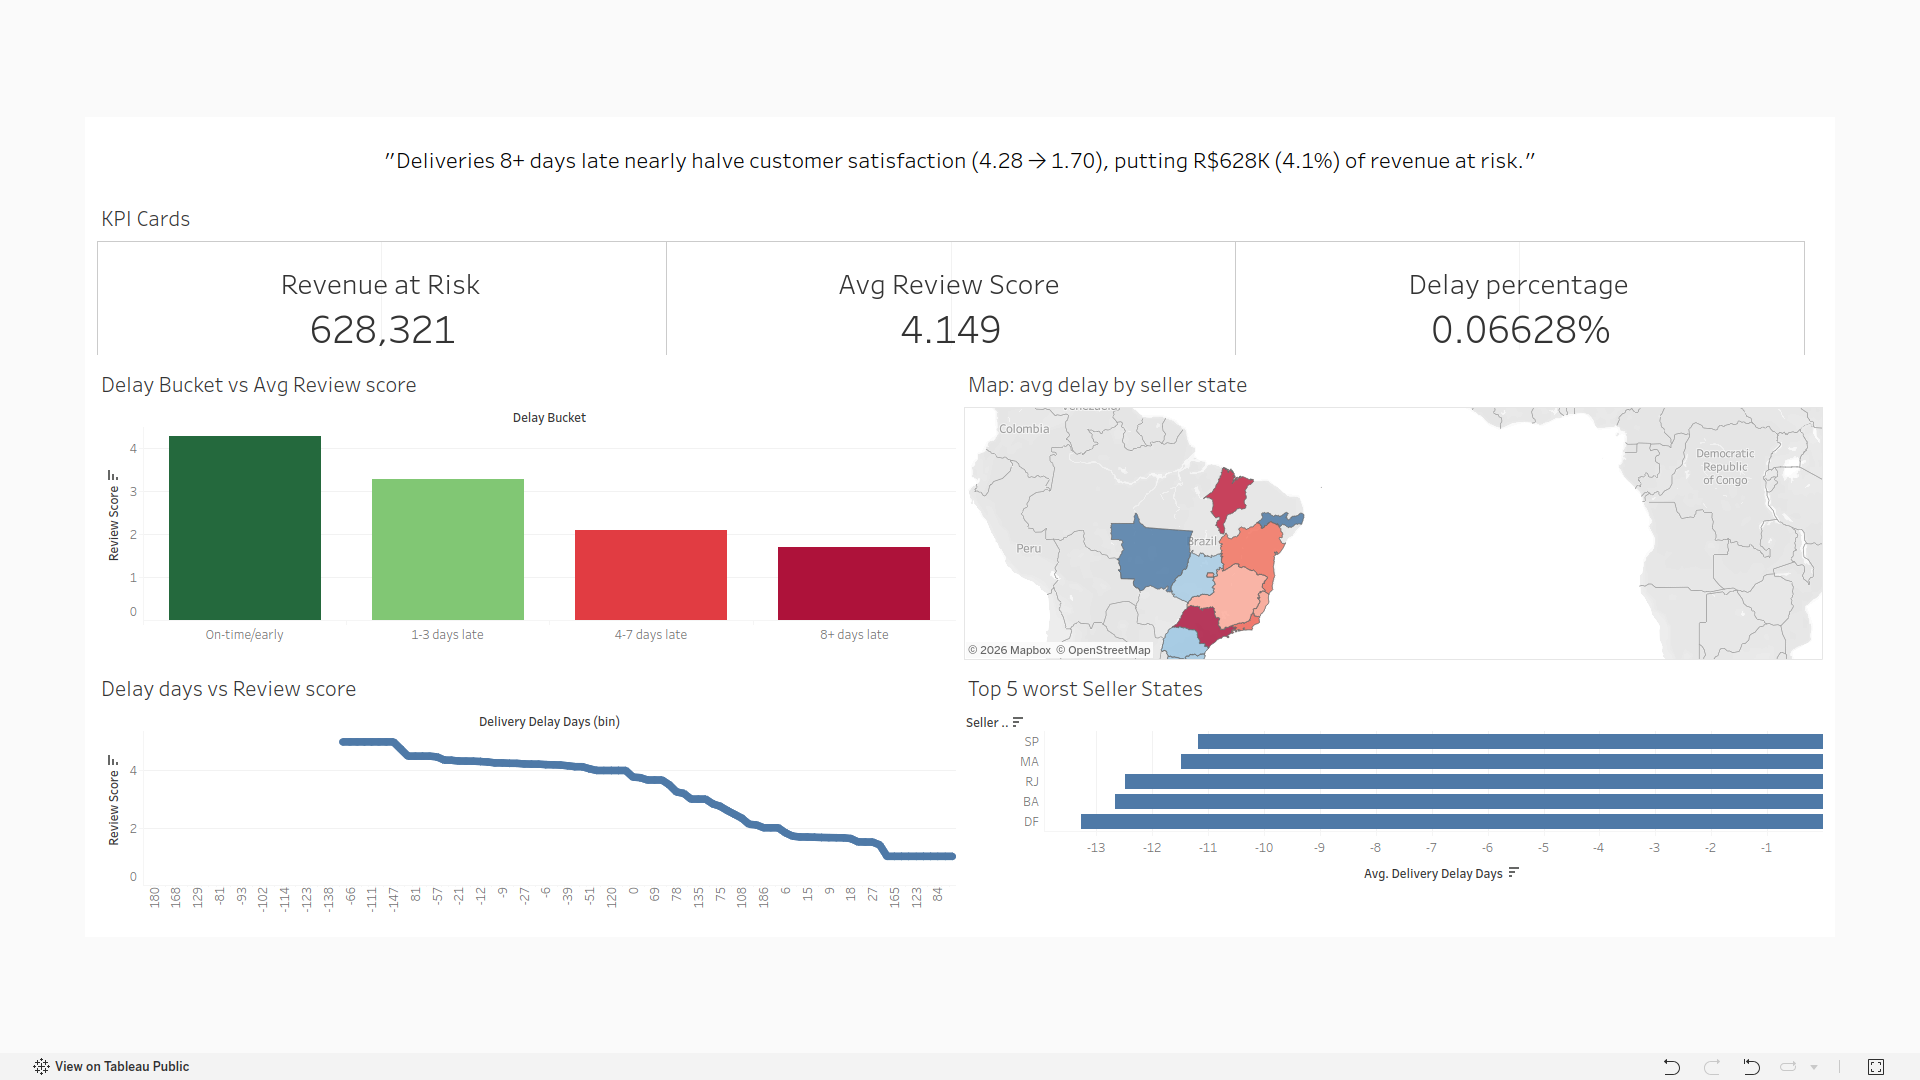

Layout of this report page (visuals, bound fields, positions):
{"tool":"tableau","page":{"name":"Delivery Satisfaction","canvas":[1000,1000],"units":"permille","ordinal":0},"visuals":[{"type":"text","box":[5.1,9.9,989.9,84.2]},{"type":"worksheet","title":"KPI Cards","mark":"Automatic","cols":["Calculation_0014537090154614","Calculation_0014537090171000","Calculation_0014537090191482"],"box":[5.1,94.1,989.9,202]},{"type":"worksheet","title":"Delay Bucket vs Avg Review score","mark":"Bar","rows":["review_score"],"cols":["Calculation_0014537049268325"],"box":[5.1,296.1,494.9,370.5]},{"type":"worksheet","title":"Map: avg delay by seller state","mark":"Automatic","box":[500,296.1,494.9,370.5]},{"type":"worksheet","title":"Delay days vs Review score","mark":"Line","rows":["review_score"],"cols":["Delivery Delay Days (bin)"],"box":[5.1,666.6,494.9,323.5]},{"type":"worksheet","title":"Top 5 worst Seller States","mark":"Automatic","rows":["seller_state"],"cols":["delivery_delay_days"],"box":[500,666.6,494.9,323.5]}]}

Visuals, with their boxes on the dashboard's canvas, which has no fixed pixel size, in thousandths of its width and height (x1, y1, x2, y2). These are canvas units, not pixel positions in the 1920x1080 screenshot, which may show the page scaled, cropped or inside an application window:
text: [x1=5, y1=10, x2=995, y2=94]
"KPI Cards" worksheet: [x1=5, y1=94, x2=995, y2=296]
"Delay Bucket vs Avg Review score" worksheet (Bar marks): [x1=5, y1=296, x2=500, y2=667]
"Map: avg delay by seller state" worksheet: [x1=500, y1=296, x2=995, y2=667]
"Delay days vs Review score" worksheet (Line marks): [x1=5, y1=667, x2=500, y2=990]
"Top 5 worst Seller States" worksheet: [x1=500, y1=667, x2=995, y2=990]
